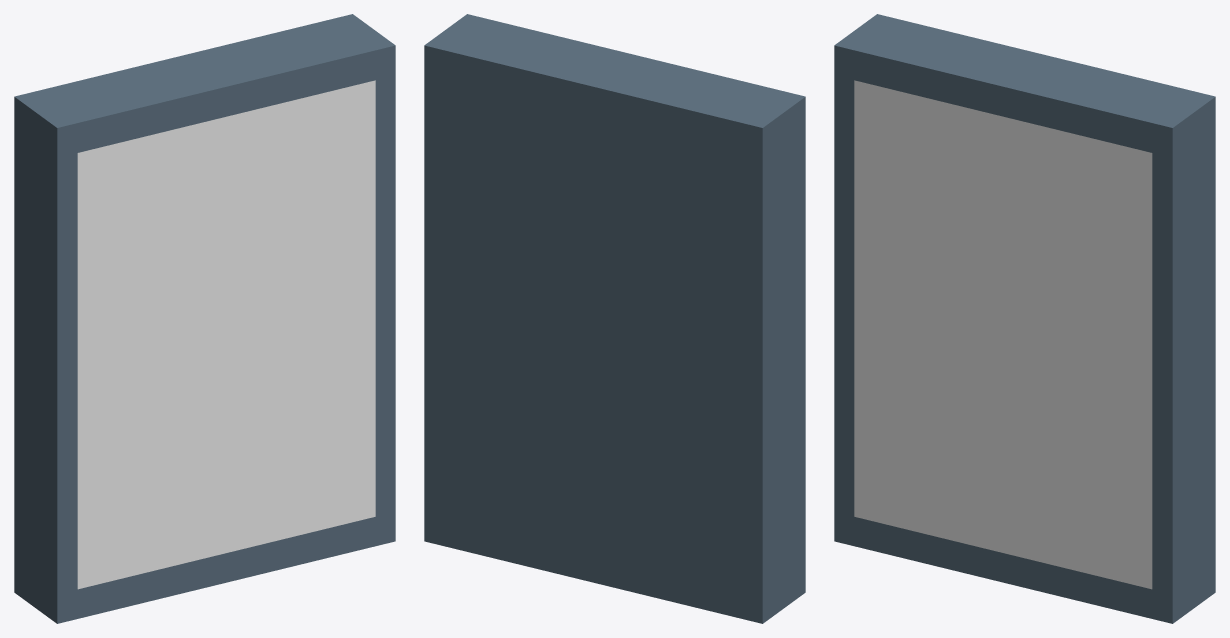
3 views of the same model, side by side, from view 1: azimuth 30°, elevation 25°; view 2: azimuth 150°, elevation 25°; view 3: azimuth 330°, elevation 25° (orthographic).
Parts seen in each view (by area): view 1: artwork_front, shell; view 2: shell; view 3: artwork_front, shell.
Part boxes in pixels (x1,y1,x2,y2): artwork_front: (77, 80, 375, 589); shell: (14, 14, 395, 623); shell: (424, 14, 805, 623); artwork_front: (854, 80, 1152, 589); shell: (834, 14, 1215, 623).
Bounding box in the file's own units: 1 × 1.4 × 0.221.
2 materials, 1 textured.
